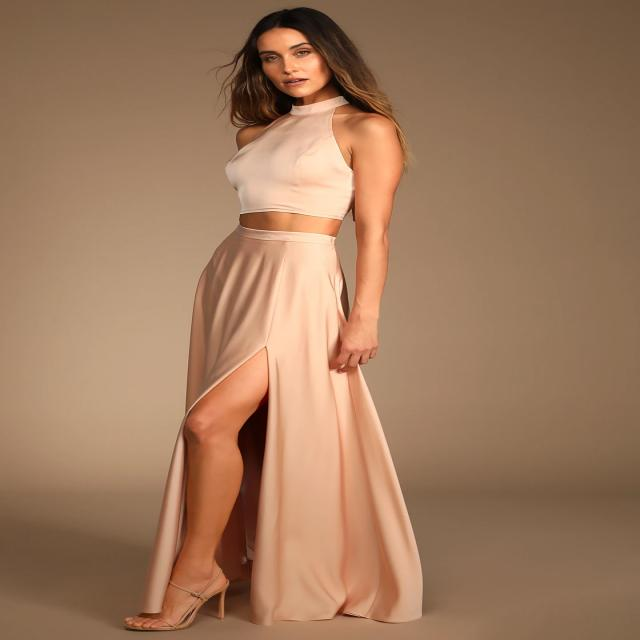clothes: (140, 106, 444, 630)
